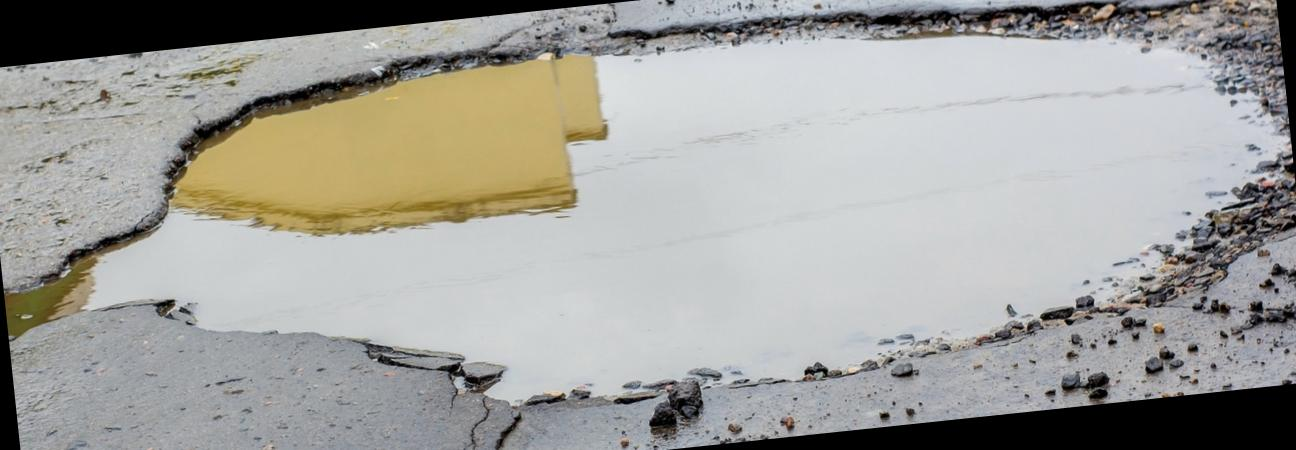pothole: (7, 0, 1296, 450)
